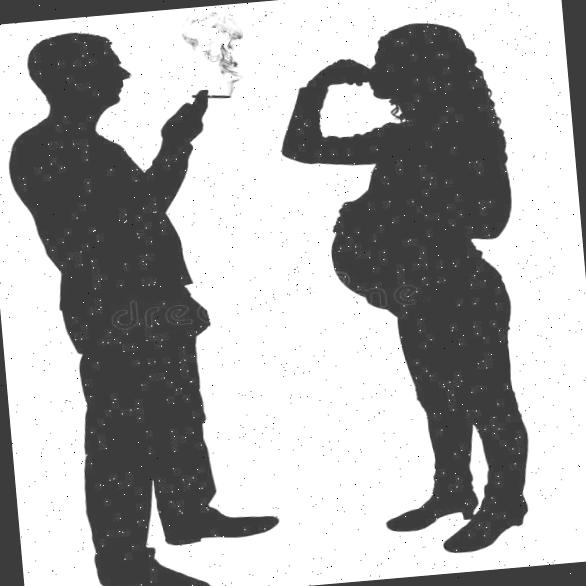smoke: (176, 7, 272, 92)
